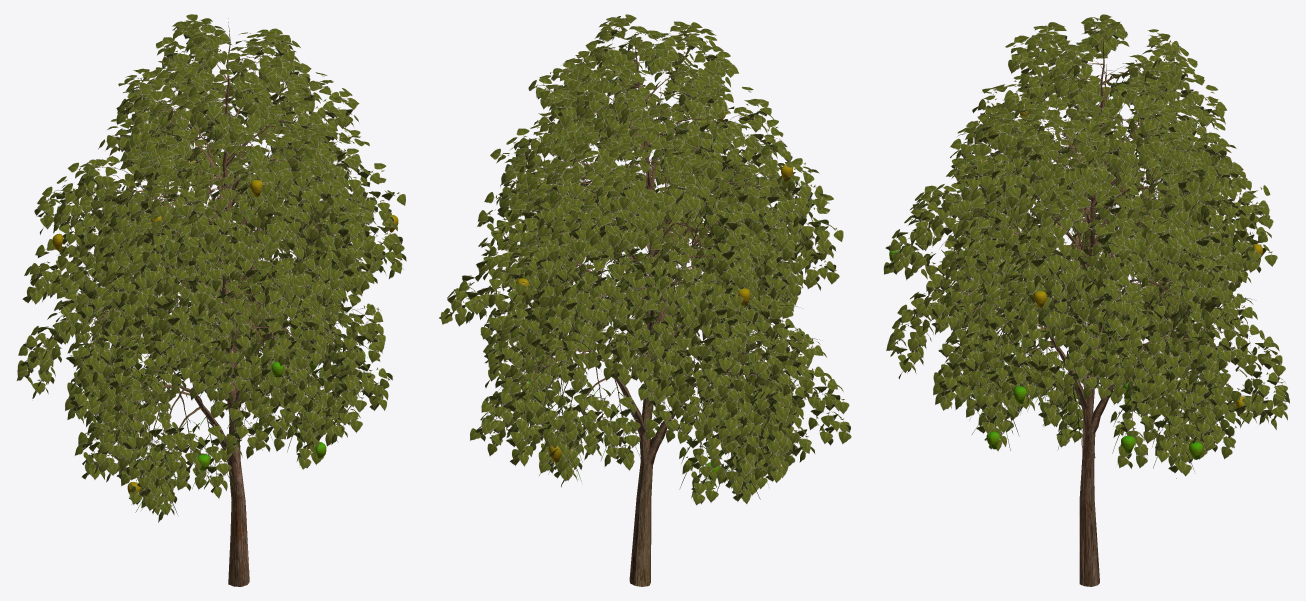
File: alt_mangga_pohon.glb
The picture shows the model from 3 angles, left to right: view 1: azimuth 30°, elevation 25°; view 2: azimuth 150°, elevation 25°; view 3: azimuth 270°, elevation 25°; orthographic projection.
Visible parts, largest first — view 1: sub01, sub02; view 2: sub01, sub02; view 3: sub01, sub02.
Part boxes in pixels (box(x1,y1,x2,y2)): sub01: box(34, 14, 406, 586); sub02: box(16, 129, 392, 522); sub01: box(477, 14, 843, 586); sub02: box(439, 123, 851, 505); sub01: box(910, 14, 1277, 586); sub02: box(883, 119, 1289, 476).
Size of the model in its own units: 10.14 by 15.83 by 10.45.
12 materials, 12 textured.
